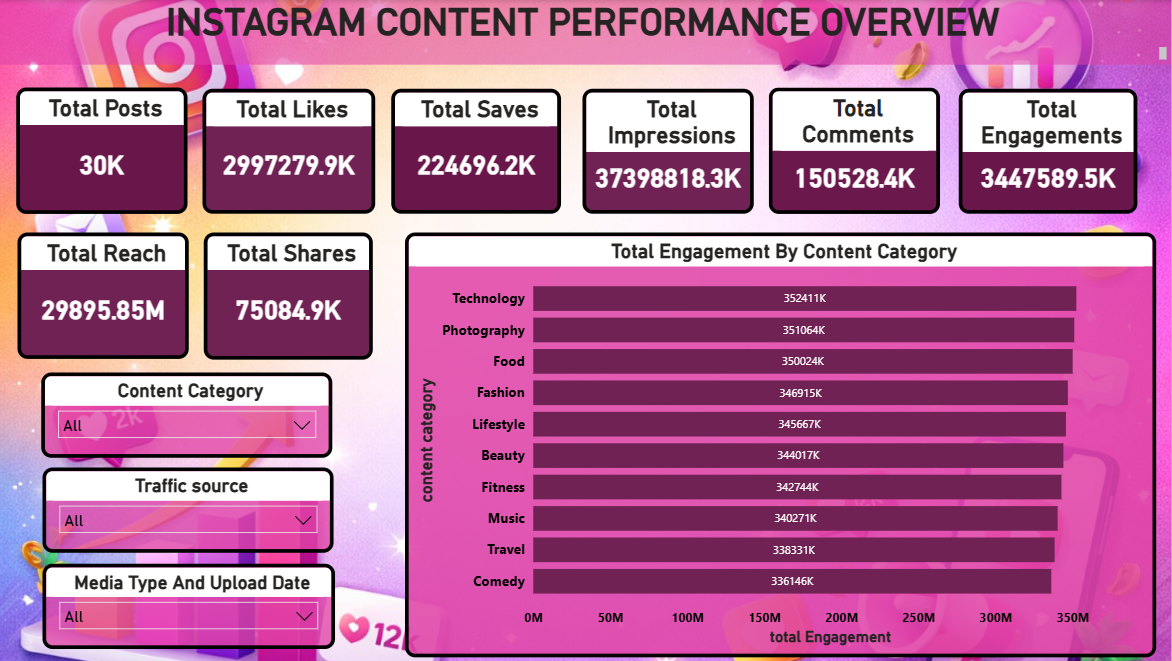

What the dashboard file says about the page in this screenshot:
{"tool":"powerbi","page":{"name":"Page 1","canvas":[1280,720],"ordinal":0},"visuals":[{"type":"textbox","title":"INSTAGRAM CONTENT PERFORMANCE OVERVIEW","box":[0,0,1280,70],"z":0},{"type":"card","title":"Total Posts","fields":{"Values":["Instagram_Analytics.total post"]},"box":[23.1,95.2,186.4,115.6],"z":1000},{"type":"card","title":"Total Comments","fields":{"Values":["Instagram_Analytics.total comments"]},"box":[842.2,95.2,186.4,118.4],"z":2000},{"type":"card","title":"Total Shares","fields":{"Values":["Instagram_Analytics.total share"]},"box":[229.9,232.7,183.7,117],"z":3000},{"type":"card","title":"Total Saves","fields":{"Values":["Instagram_Analytics.total saves"]},"box":[431.3,95.2,185,115.6],"z":4000},{"type":"card","title":" Total  Engagements","fields":{"Values":["DAX.total Engagement  (dax)"]},"box":[1049,96.6,194.6,117],"z":5000},{"type":"slicer","title":"Media Type And Upload Date","fields":{"Values":["Instagram_Analytics.content category"]},"box":[40.8,591.8,318.4,95.2],"z":6000},{"type":"card","title":"Total Reach","fields":{"Values":["Instagram_Analytics.total reach"]},"box":[24.5,232.7,186.4,117],"z":7000},{"type":"card","title":"Total Impressions","fields":{"Values":["Instagram_Analytics.total impression"]},"box":[639.5,96.6,186.4,112.9],"z":8000},{"type":"card","title":"Total Likes","fields":{"Values":["Instagram_Analytics.total likes"]},"box":[225.9,96.6,187.8,115.6],"z":9000},{"type":"slicer","title":"Content Category","fields":{"Values":["Instagram_Analytics.content category"]},"box":[37.5,371.2,317.5,92.5],"z":11000},{"type":"slicer","title":"Traffic source","fields":{"Values":["Instagram_Analytics.traffic source"]},"box":[38.1,484.4,317,92.5],"z":12000},{"type":"clusteredBarChart","title":" Total Engagement By Content Category","fields":{"Category":["Instagram_Analytics.content category"],"Y":["DAX.Engagement Rate"]},"box":[446.3,253.1,817.7,462.6],"z":13001}]}

Visuals, with their boxes in screenshot pixels (x1, y1, x2, y2), scaled from the page's 1280x720 canvas onto the 1172x661 screenshot:
"INSTAGRAM CONTENT PERFORMANCE OVERVIEW" textbox: 0/0/1171/64
"Total Posts" card: 21/87/192/194
"Total Comments" card: 771/87/942/196
"Total Shares" card: 211/214/379/321
"Total Saves" card: 395/87/564/194
" Total  Engagements" card: 960/89/1139/196
"Media Type And Upload Date" slicer: 37/543/329/631
"Total Reach" card: 22/214/193/321
"Total Impressions" card: 586/89/756/192
"Total Likes" card: 207/89/379/195
"Content Category" slicer: 34/341/325/426
"Traffic source" slicer: 35/445/325/530
" Total Engagement By Content Category" clusteredBarChart: 409/232/1157/657
